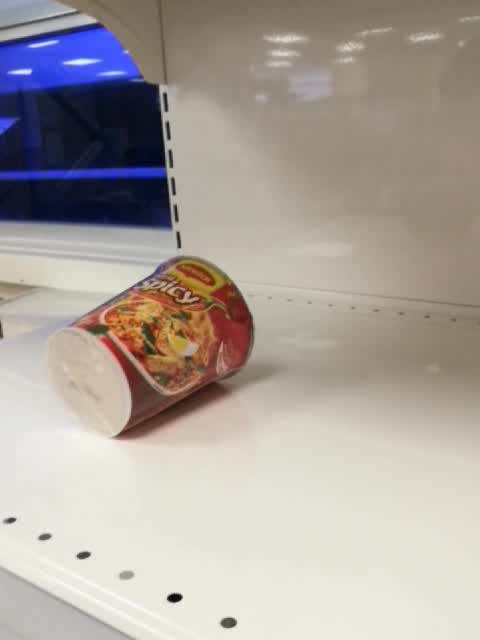maggi: (47, 256, 258, 439)
